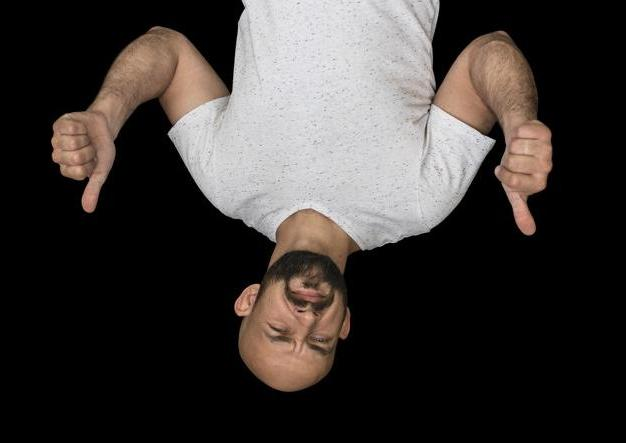thumbsdown: (494, 122, 553, 236), (50, 118, 103, 214)
